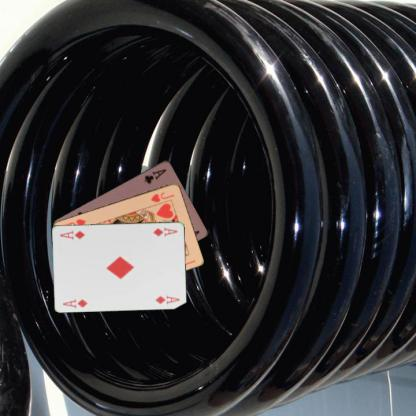Ac: (142, 166, 168, 185)
Ad: (60, 297, 88, 309), (151, 225, 178, 237)
Jh: (148, 190, 176, 204)
